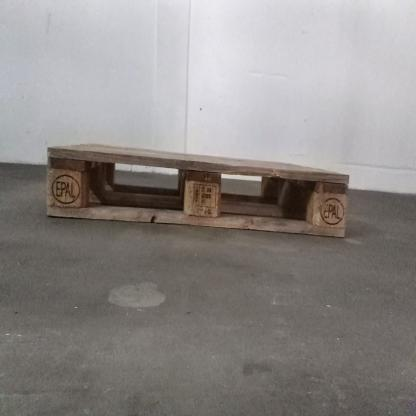BoxFace: (42, 134, 354, 246)
